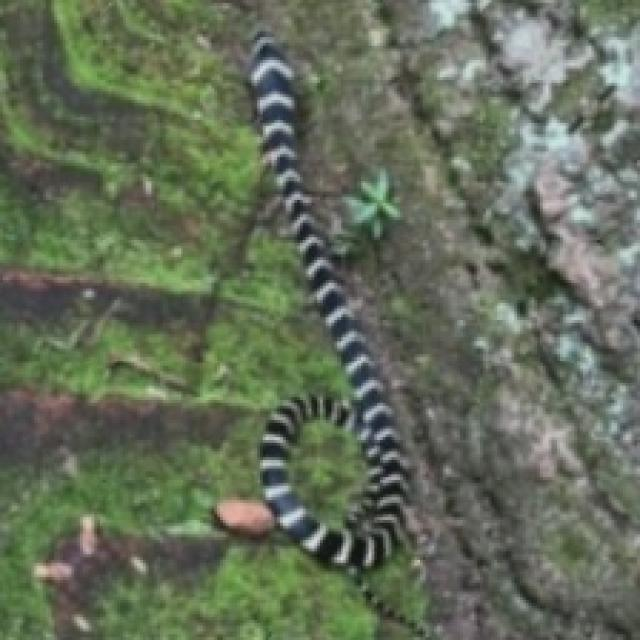king cobra: (249, 31, 406, 569), (286, 414, 369, 529)
